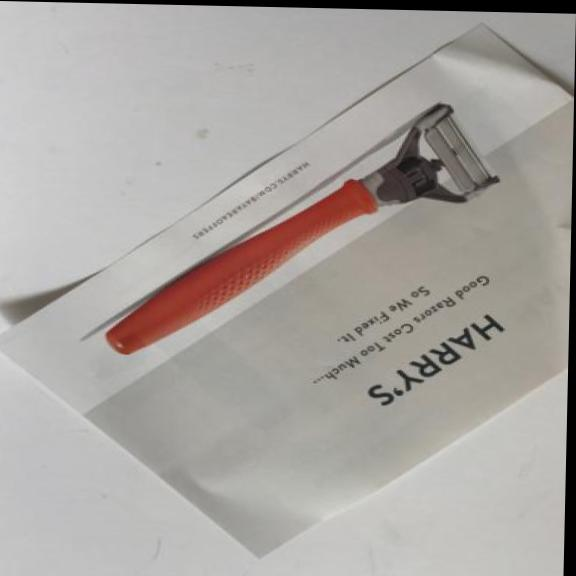Kertas: (0, 11, 576, 571)
